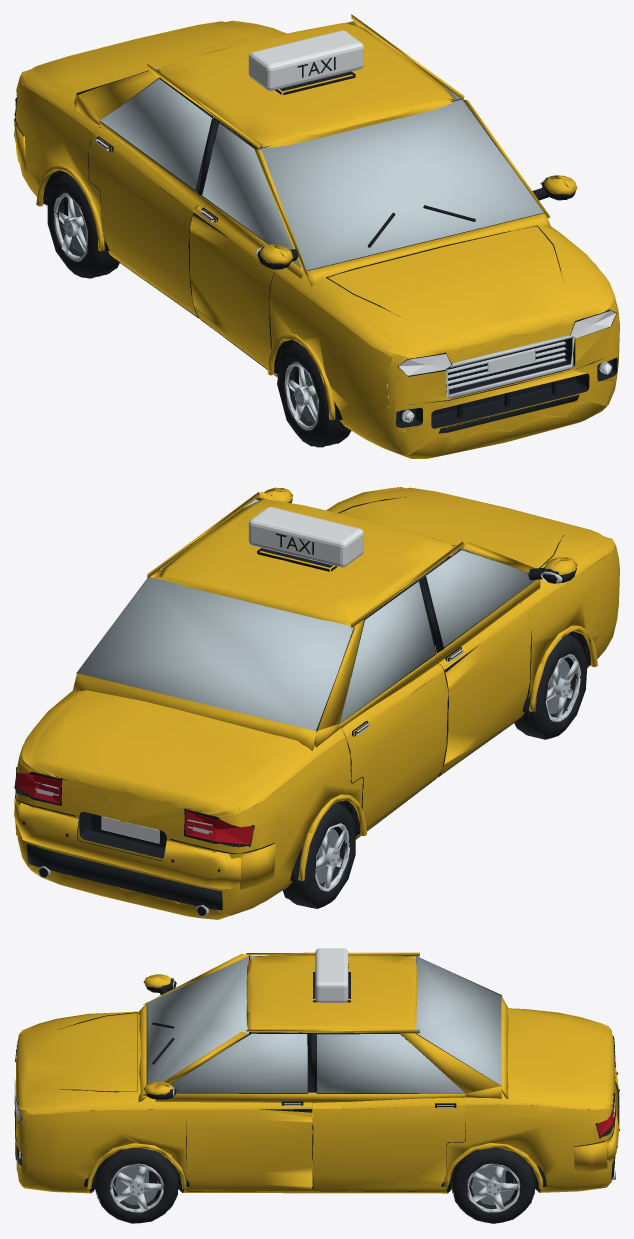
The model's file is GenericCityTaxiWithTaxiRoofSign.fbx.
3 renders of one model, top to bottom at view 1: azimuth 30°, elevation 25°; view 2: azimuth 150°, elevation 25°; view 3: azimuth 270°, elevation 25°, orthographic. The views are drawn at different scales.
Visible parts, largest first — view 1: GenericCityTaxiWithTaxiRoofSign, wheel2, wheel4; view 2: GenericCityTaxiWithTaxiRoofSign, wheel4, wheel2; view 3: GenericCityTaxiWithTaxiRoofSign, wheel3, wheel1.
Boxes of the visible parts, x1,y1,x2,y2 form: GenericCityTaxiWithTaxiRoofSign: (14, 14, 619, 458); wheel2: (277, 342, 351, 446); wheel4: (47, 172, 119, 278); GenericCityTaxiWithTaxiRoofSign: (14, 487, 619, 919); wheel4: (282, 802, 355, 908); wheel2: (514, 634, 587, 739); GenericCityTaxiWithTaxiRoofSign: (14, 948, 619, 1222); wheel3: (452, 1147, 535, 1223); wheel1: (94, 1147, 177, 1223).
Size of the model in its own units: 211 by 177 by 459.
13 materials, 13 textured.
